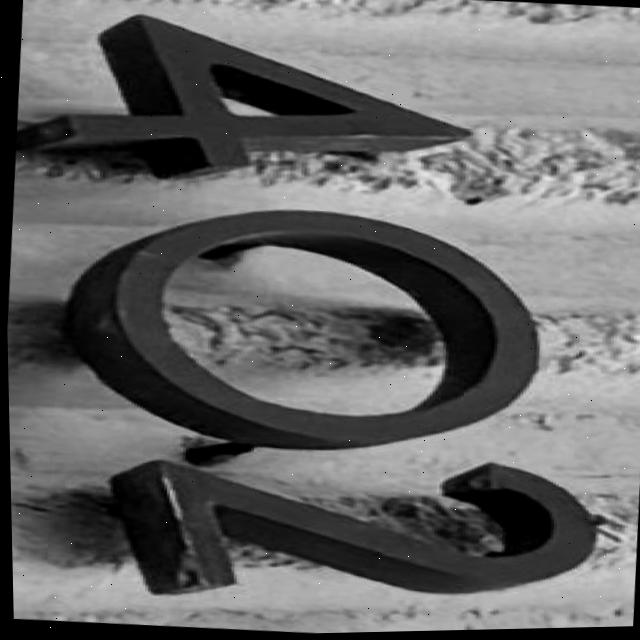character: (84, 185, 562, 466), (25, 0, 498, 199), (137, 434, 606, 626)
